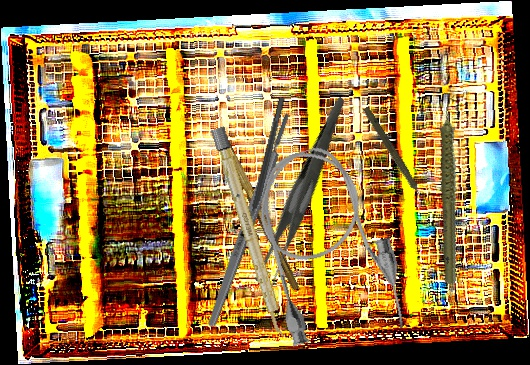Cannula: (242, 134, 415, 359)
Dressing Forceps: (212, 96, 396, 292)
Fixation Ring: (239, 95, 293, 241)
Handpiece: (404, 93, 499, 286), (359, 105, 430, 208)
Scalpel Handle: (204, 110, 295, 330), (210, 126, 289, 340), (213, 130, 303, 292)
